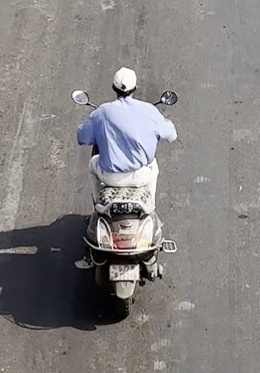BikeWithRider: (65, 61, 183, 317)
NoHelmet: (106, 62, 142, 101)
